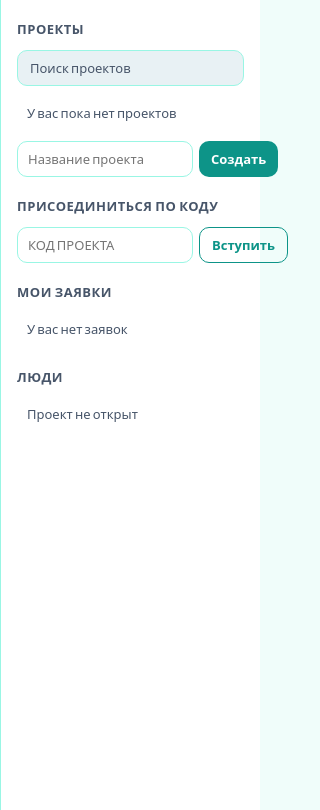
Test: Sidebar › shows the server error when joining by code fails
Type "AAAAAAAA" into the field labelled "Код проекта" at [105, 244], box [17,226,193,262]
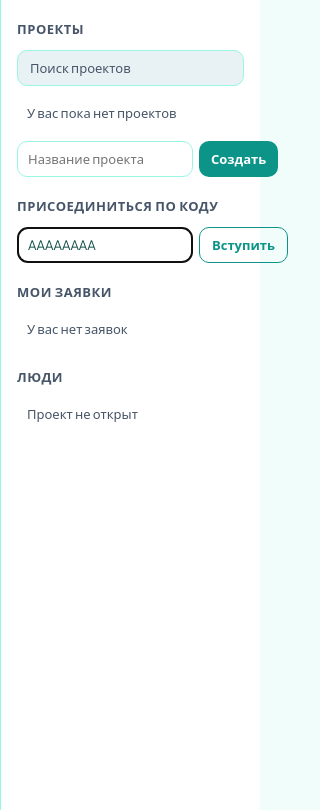
Click the button "Вступить" at [244, 244], box [199,226,288,262]
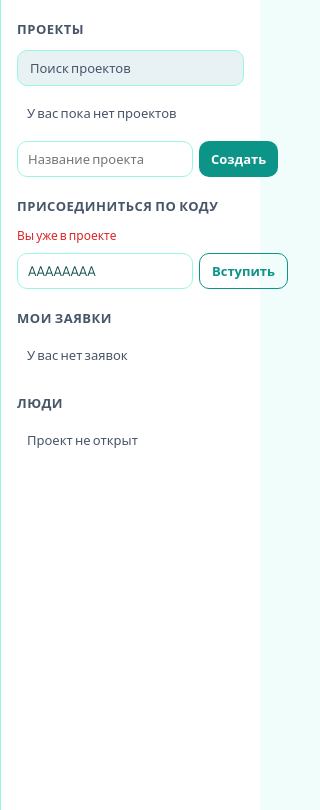
Check: the message reads "Вы уже в проекте", box [17,228,116,242]
